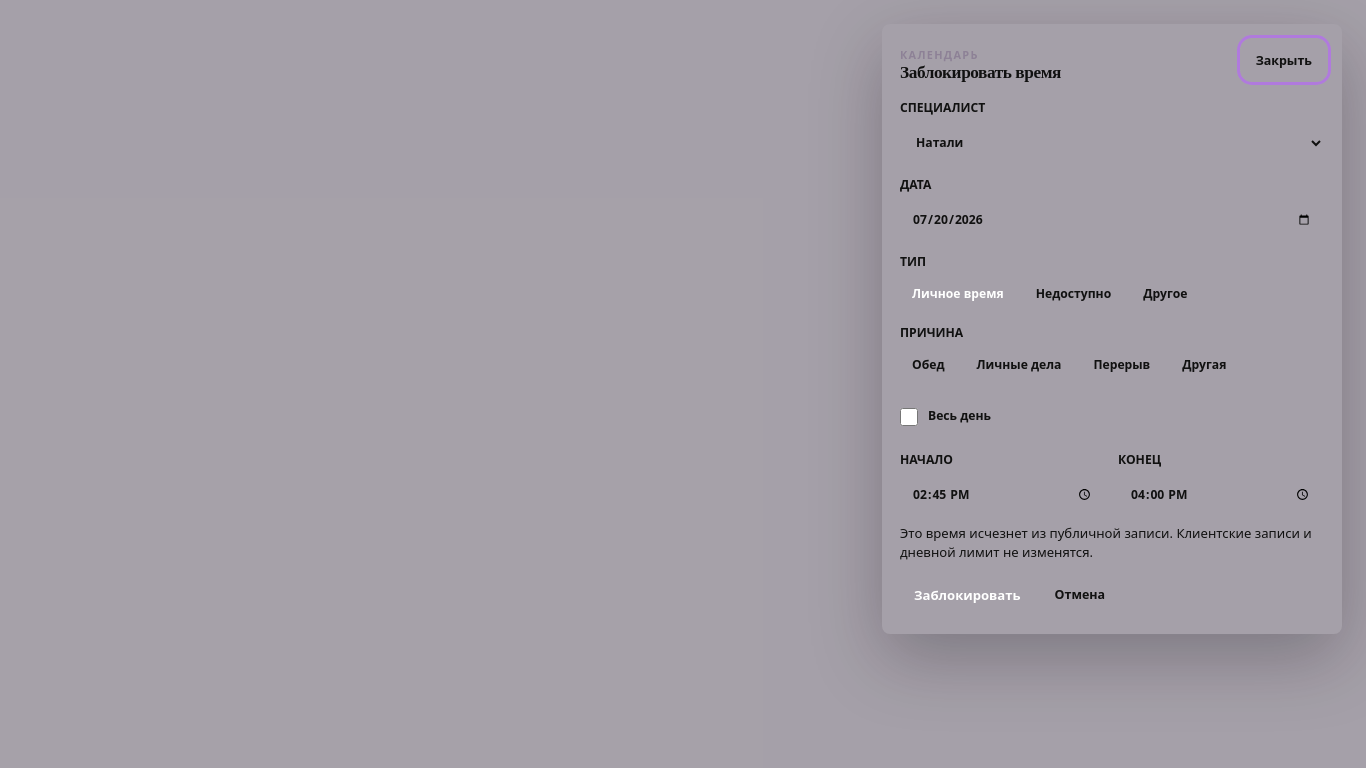
Test: CalendarBlockDialog › does not overlap another personal-time block
The image size is (1366, 768).
Step 1. Click the button "Личные дела" → (1019, 365), box [964,347,1074,383]
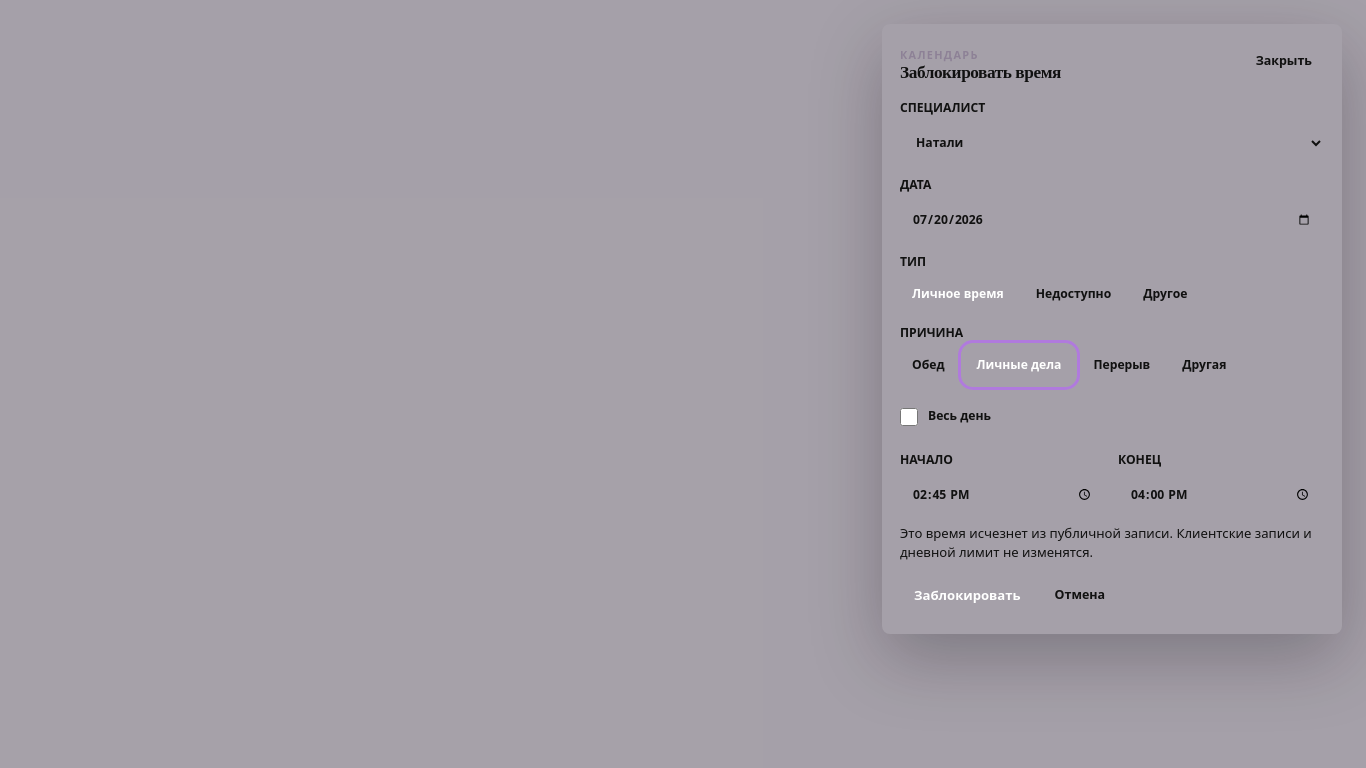
Step 2. Click the button "Заблокировать" → (967, 595), box [900,574,1035,616]
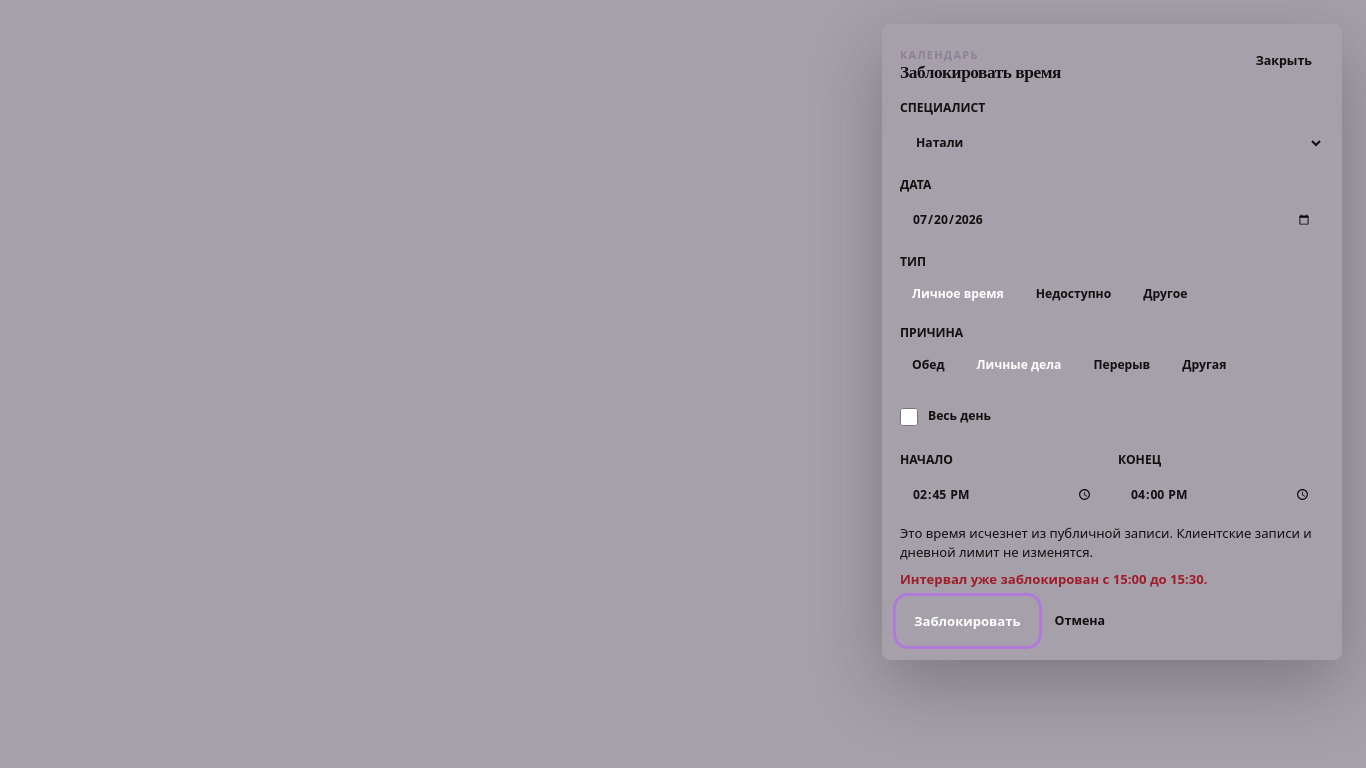
Now the message shows "уже заблокирован с 15:00 до 15:30", box [900,570,1208,588]
